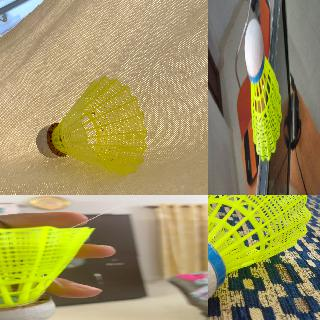shuttlecock: (208, 195, 312, 311), (36, 76, 146, 176), (0, 226, 95, 320), (244, 19, 281, 160)
